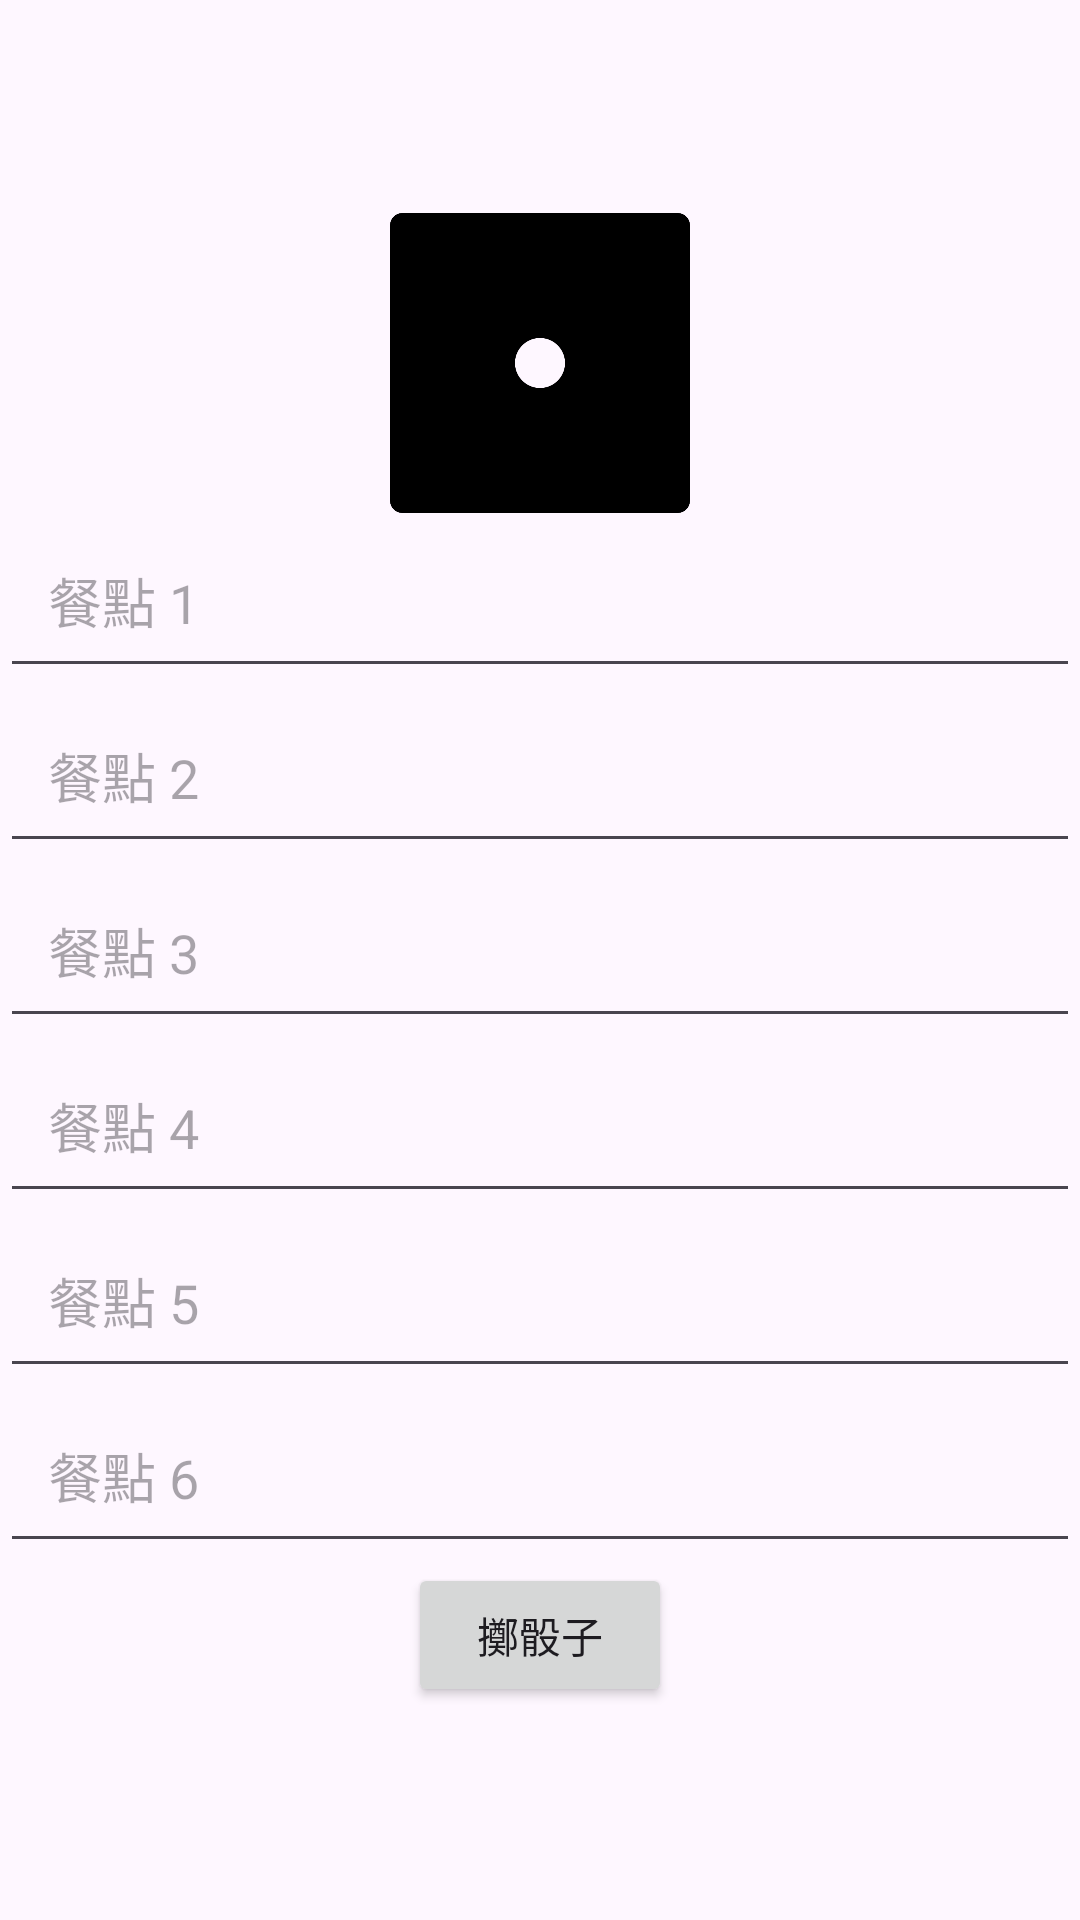

Screen size 1080×1920. Icon name, then its center in pixels as (x,y):
dice: (540,363)
